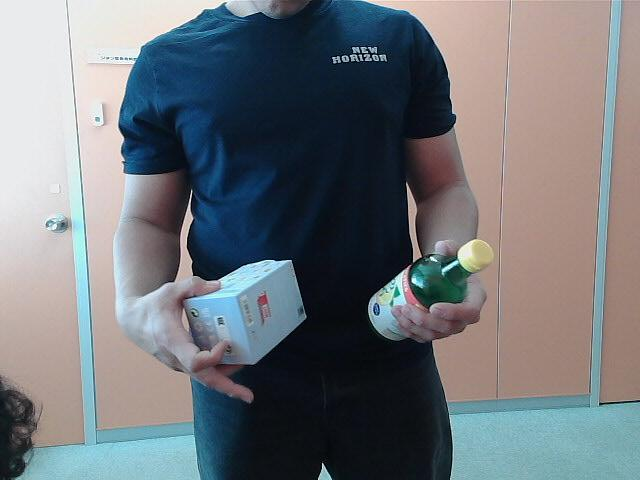Blind_box: (185, 252, 308, 366)
Lemon_sapporo: (366, 240, 498, 342)
